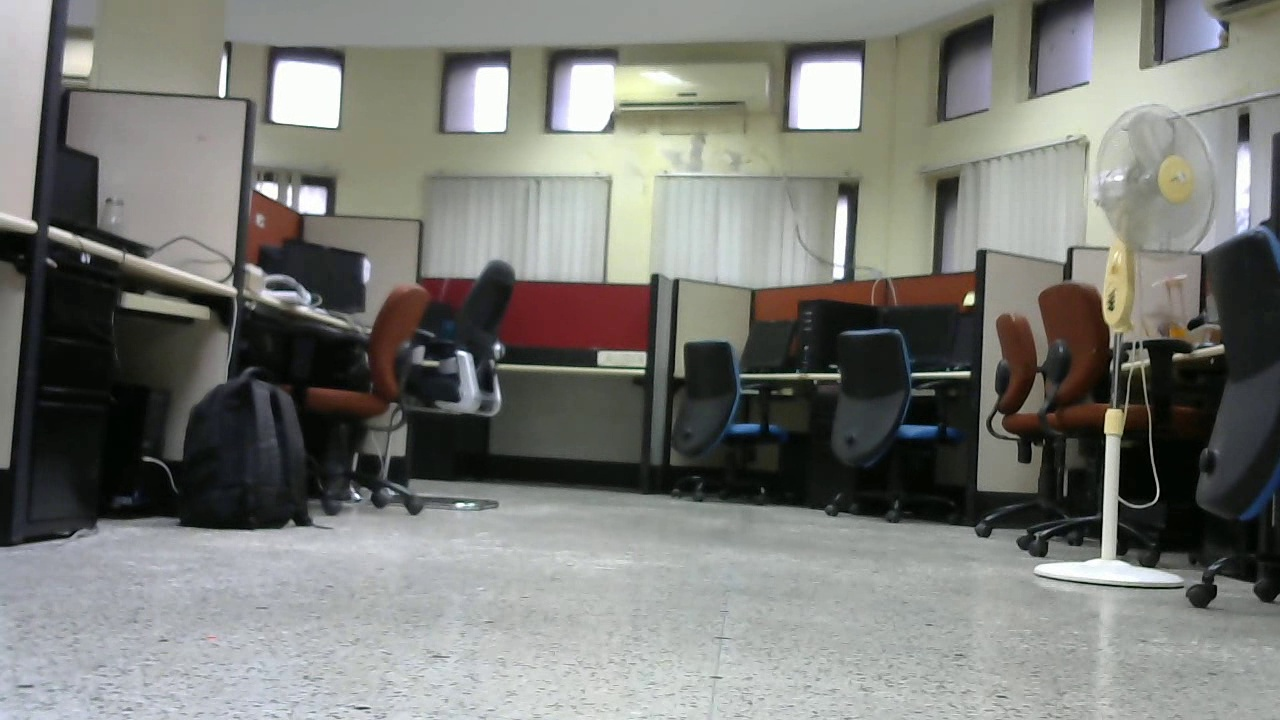chair: (1042, 283, 1192, 569), (293, 282, 437, 518), (809, 326, 961, 531), (407, 248, 515, 518), (978, 307, 1084, 550), (667, 333, 801, 516)
